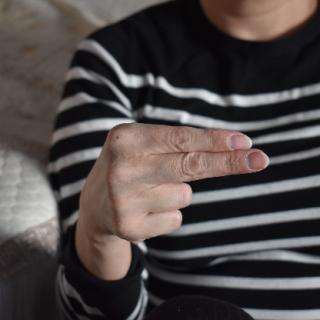AYN: (69, 119, 272, 248)
